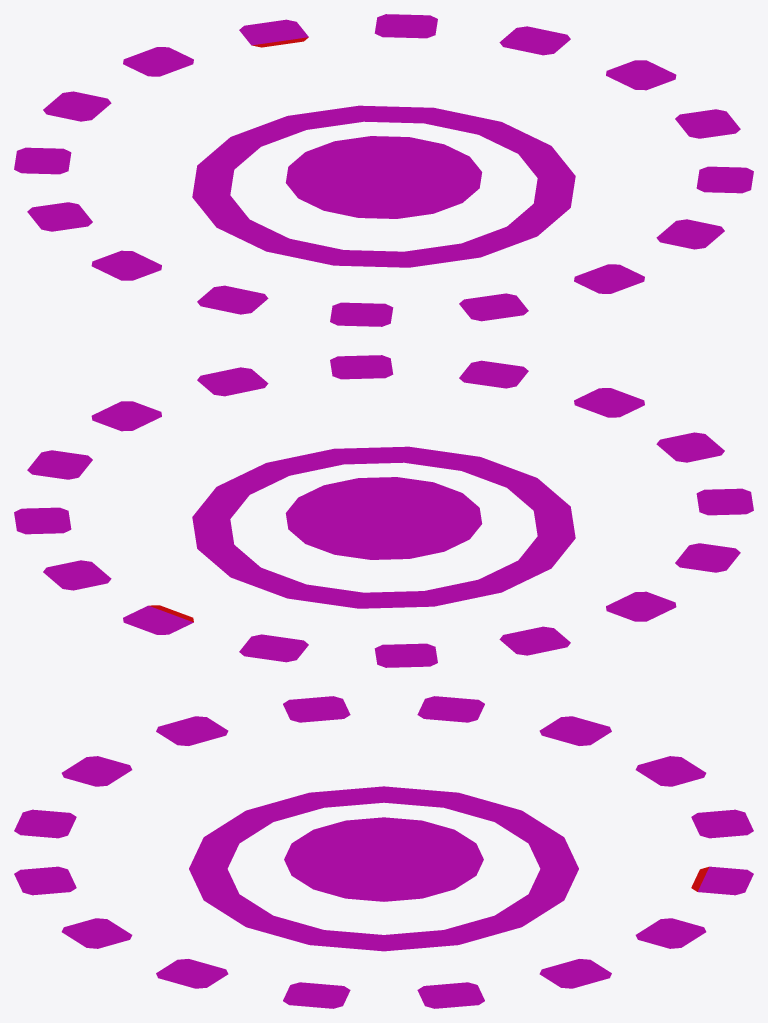
Rendered from MeVFX_Piedestal.FBX.
3 views of the same model, one above another, from view 1: azimuth 30°, elevation 25°; view 2: azimuth 150°, elevation 25°; view 3: azimuth 270°, elevation 25° (orthographic).
Visible parts, largest first — view 1: VFX_Piedestal; view 2: VFX_Piedestal; view 3: VFX_Piedestal.
Boxes of the visible parts, left/top/right/bottom form: VFX_Piedestal: left=14, top=14, right=753, bottom=326; VFX_Piedestal: left=14, top=355, right=753, bottom=667; VFX_Piedestal: left=14, top=696, right=753, bottom=1008.
Size of the model in its own units: 46.64 by 1.14 by 46.64.
